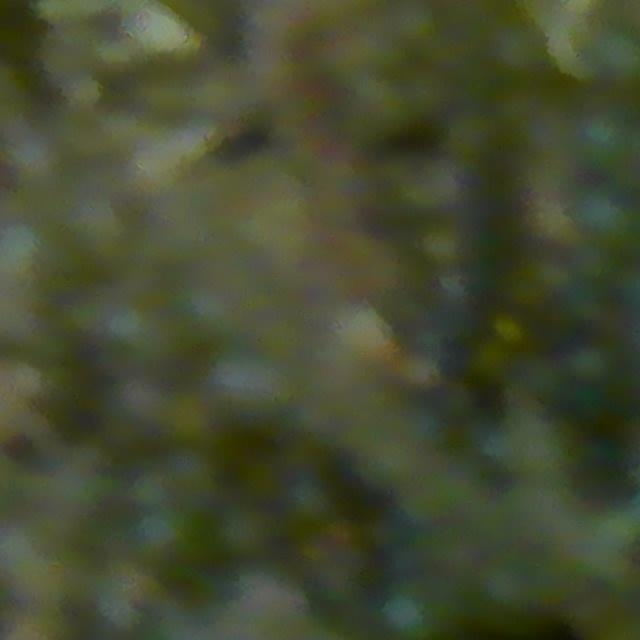SeaGrape: (204, 344, 295, 429), (131, 502, 200, 568), (570, 107, 636, 173), (569, 184, 635, 249), (213, 500, 276, 562), (380, 588, 440, 640)
